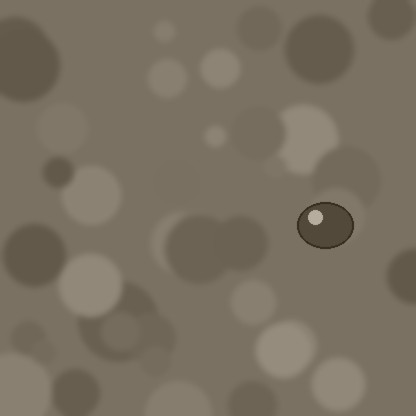gota: (297, 204, 353, 252)
